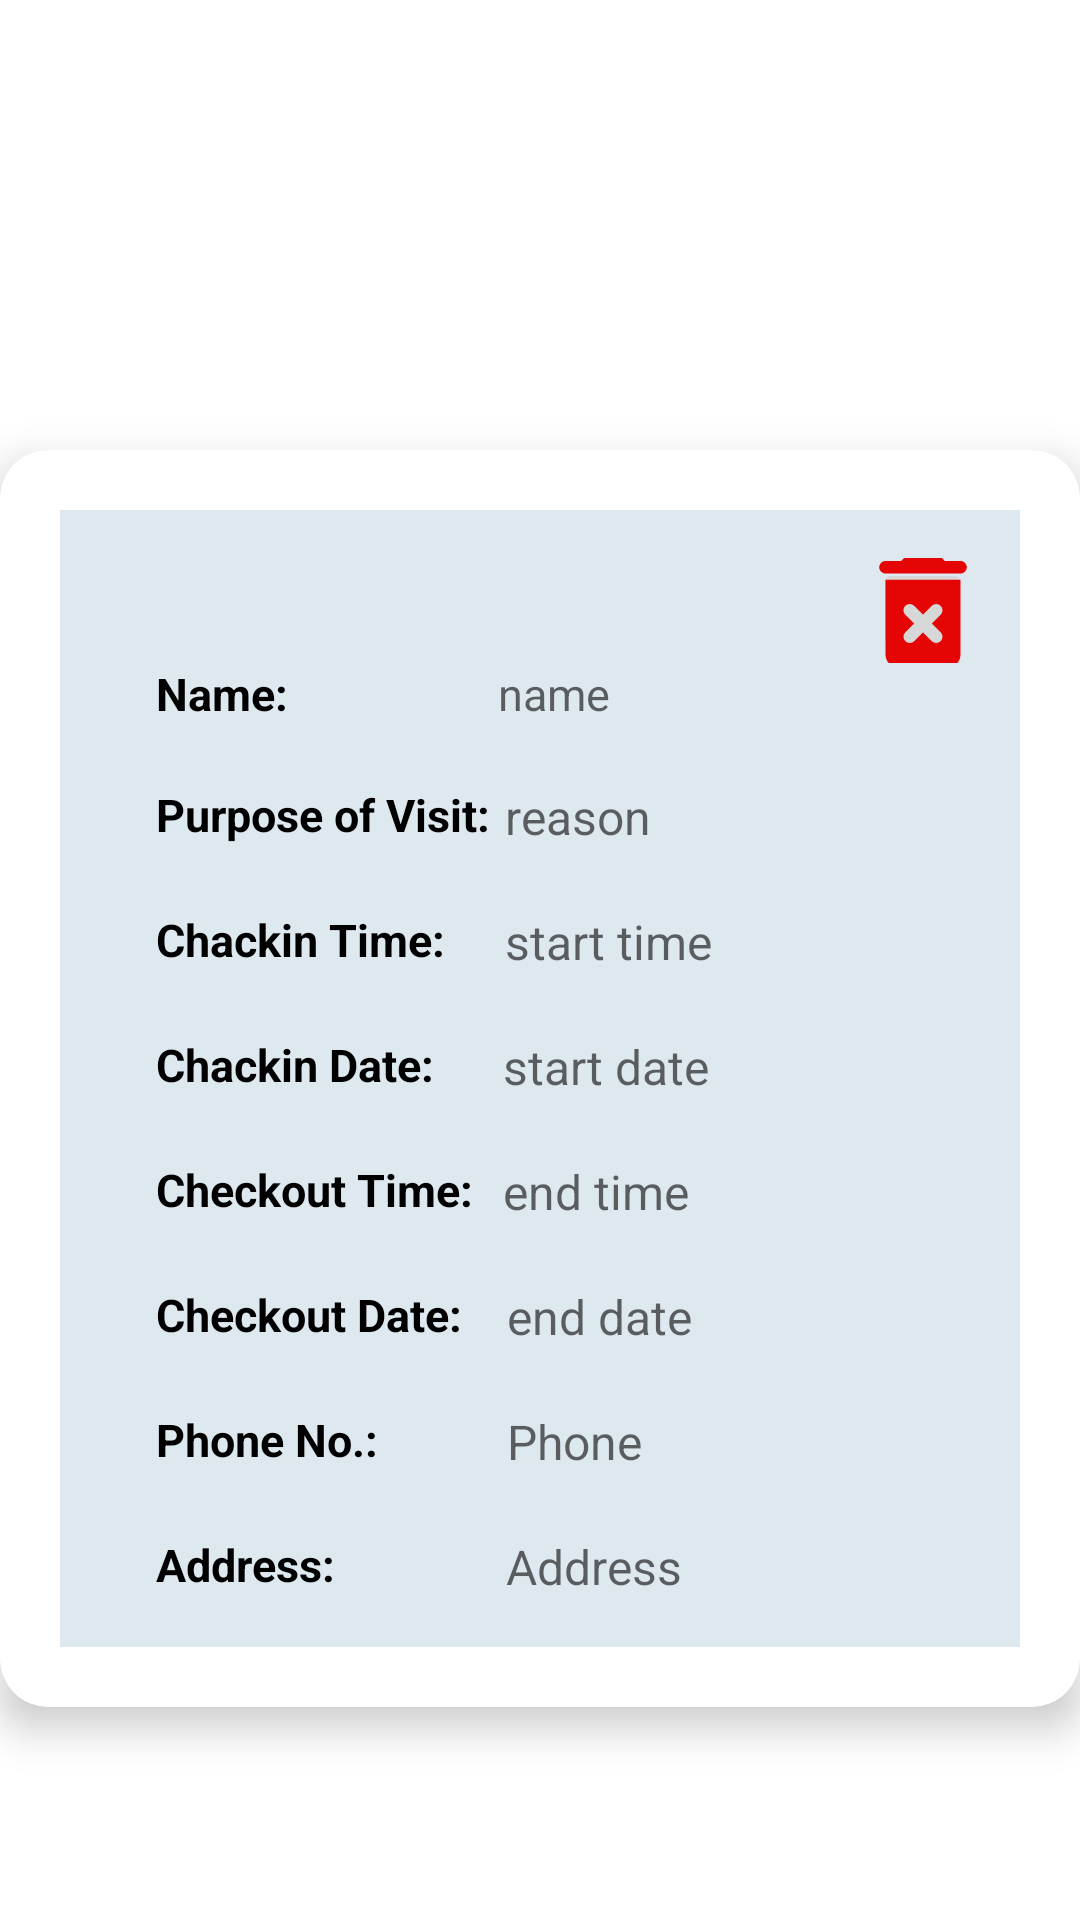

Screen size 1080*1920. Icon name, then its box in pixels as (x1, y1, x2, y2):
delete: (879, 558, 967, 663)
